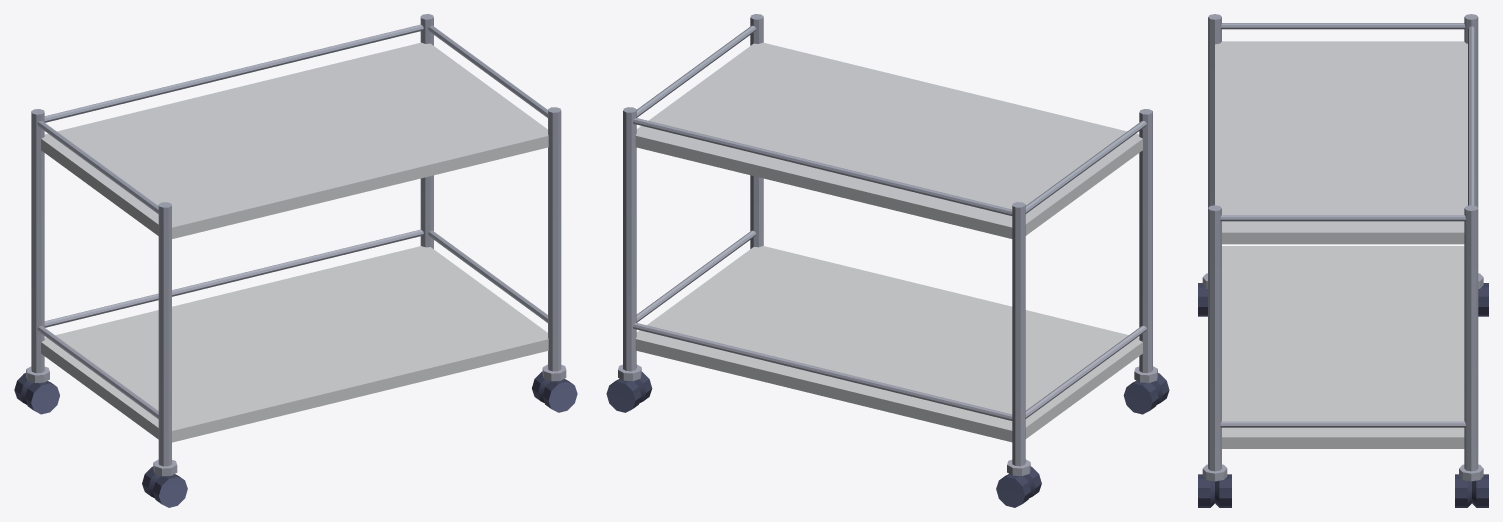
Rendered from movable_desk.fbx.
3 renders of one model, left to right at view 1: azimuth 30°, elevation 25°; view 2: azimuth 150°, elevation 25°; view 3: azimuth 270°, elevation 25°, orthographic.
Parts seen in each view (by area): view 1: movable_desk; view 2: movable_desk; view 3: movable_desk.
Boxes of the visible parts, x1,y1,x2,y2 form: movable_desk: [14, 14, 577, 507]; movable_desk: [606, 14, 1169, 507]; movable_desk: [1198, 14, 1488, 507].
Bounding box in the file's own units: 168 × 113 × 100.
